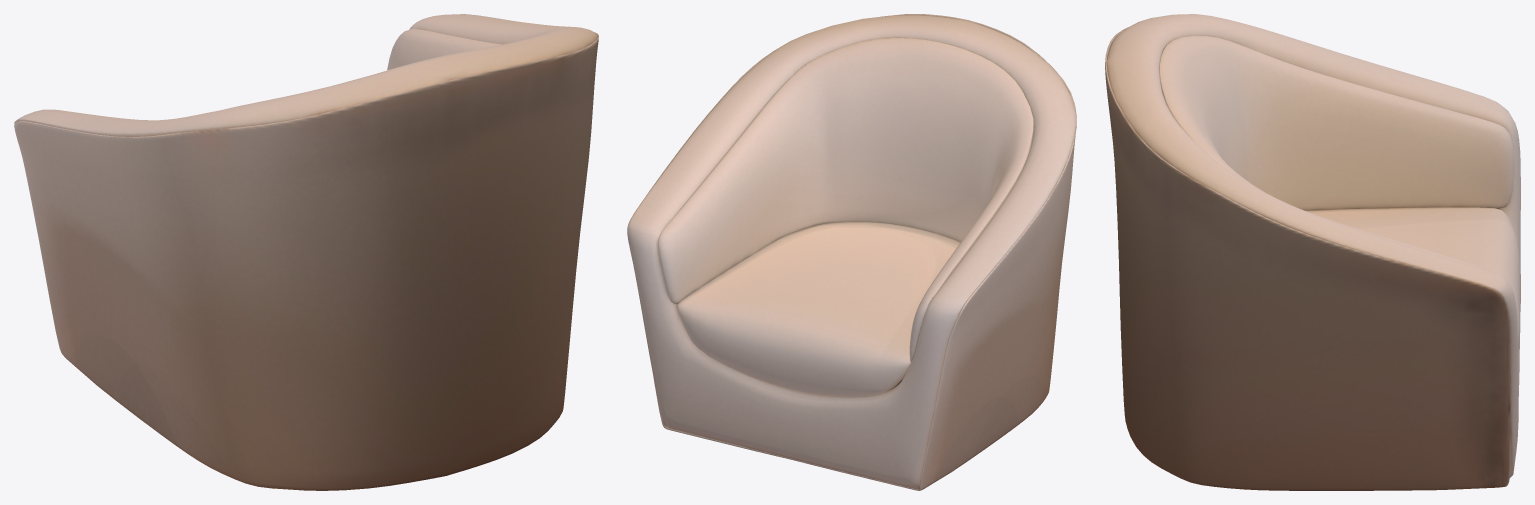
The model's file is chair_01.gltf.
3 views of the same model, side by side, from view 1: azimuth 30°, elevation 25°; view 2: azimuth 150°, elevation 25°; view 3: azimuth 270°, elevation 25° (orthographic). The views are drawn at different scales.
Parts seen in each view (by area): view 1: Sofa001_Febric_0; view 2: Sofa001_Febric_0; view 3: Sofa001_Febric_0.
Part boxes in pixels (left/top/right/bottom): Sofa001_Febric_0: left=14, top=14, right=598, bottom=490; Sofa001_Febric_0: left=627, top=14, right=1076, bottom=490; Sofa001_Febric_0: left=1105, top=14, right=1520, bottom=490.
Size of the model in its own units: 0.658 by 0.5776 by 0.6046.
1 material, 1 textured.
